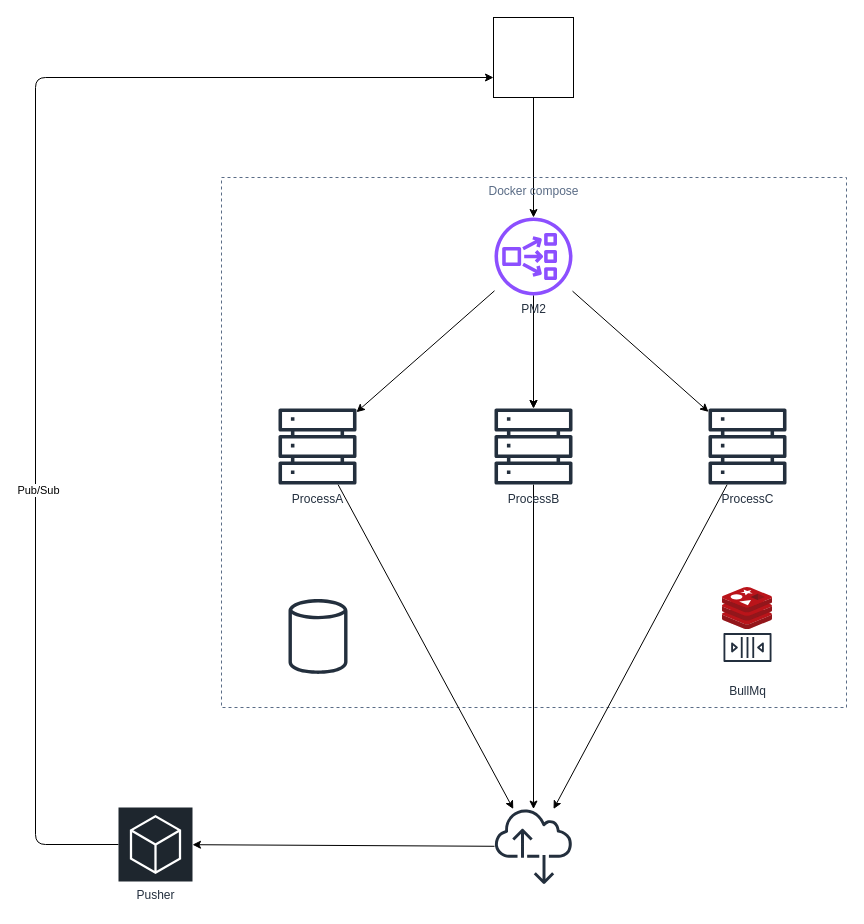
This 864x924 diagram has some shape labels left out. The shapes that lost their labels are listed below. From the top down, each one's box as (x1, y1, x2, y2) in pixels, then its label:
(492, 16, 574, 98): Stateless Client
(288, 597, 347, 675): Postgres
(494, 807, 572, 885): Public network
